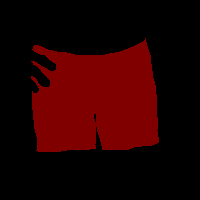mutande: (31, 37, 159, 152)
